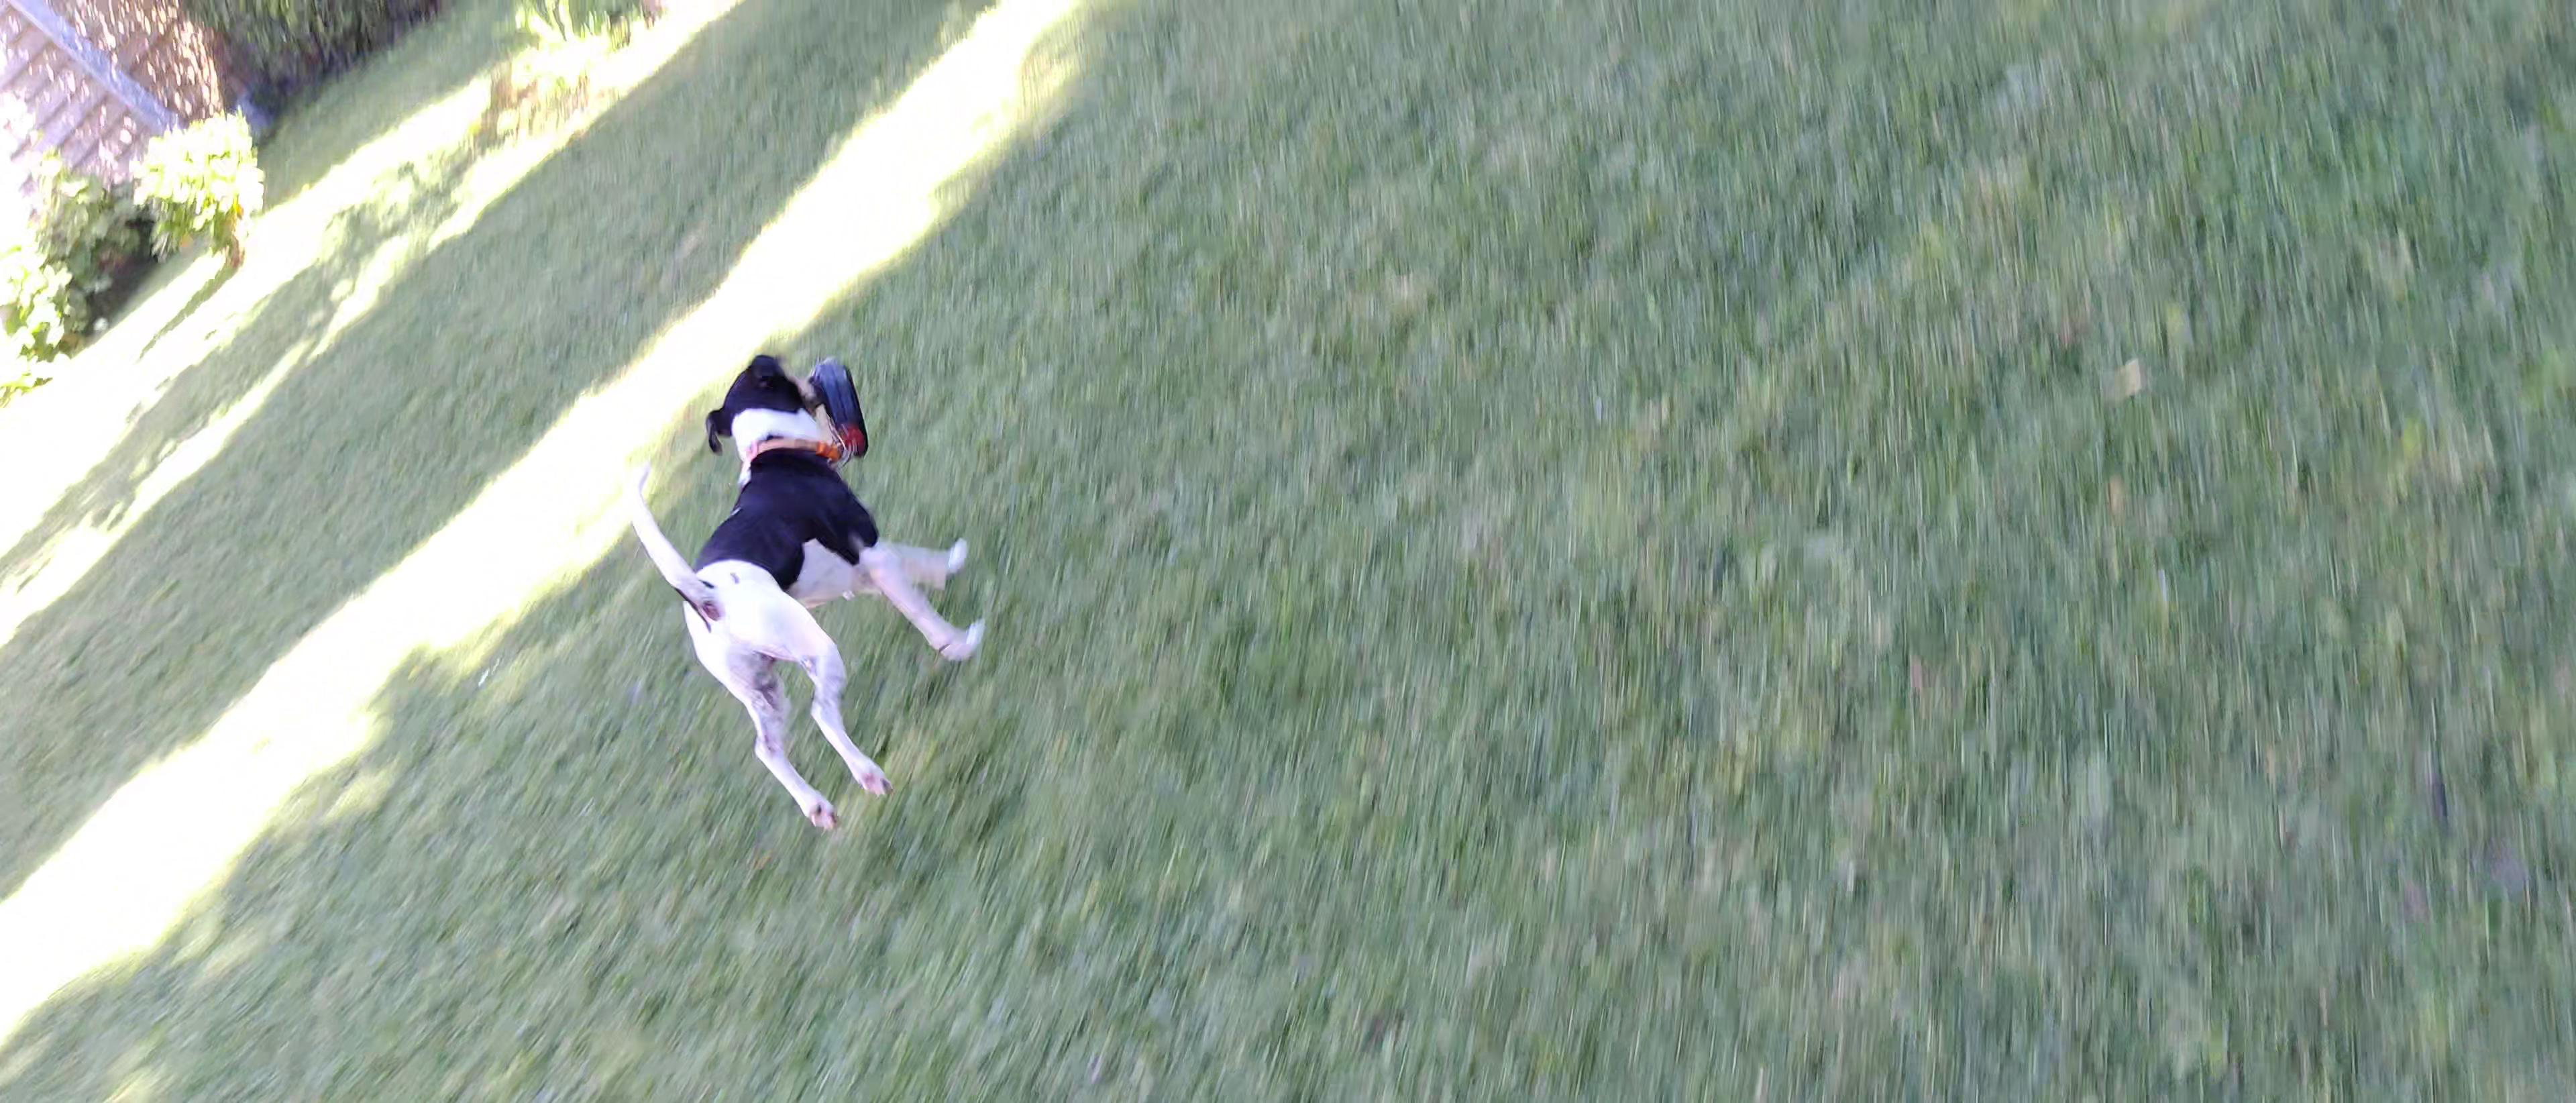Dog: (608, 342, 986, 827)
